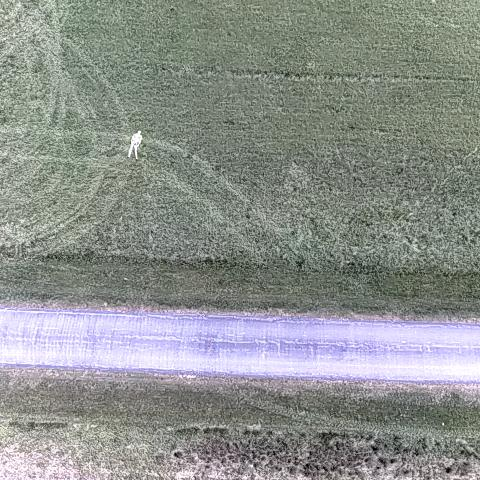person: (128, 128, 143, 161)
